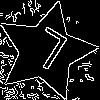L: (21, 26, 70, 80)
